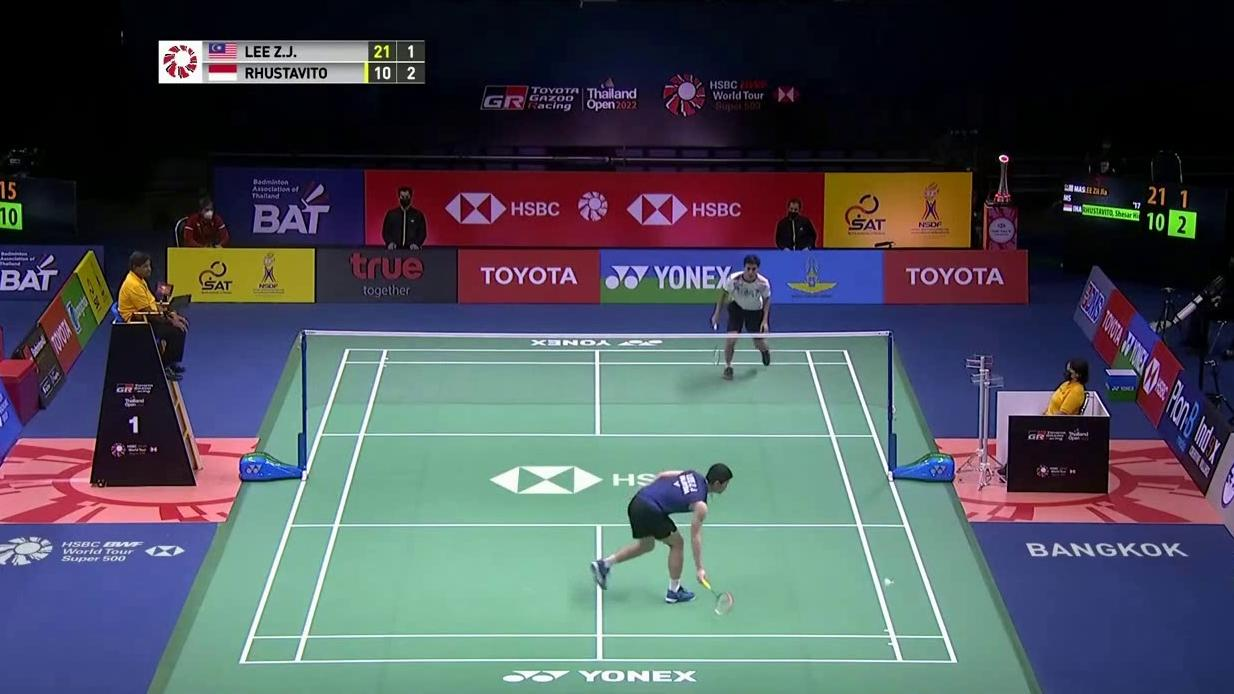racket: (697, 577, 734, 615), (711, 320, 721, 366)
shuttle: (884, 578, 894, 587)
